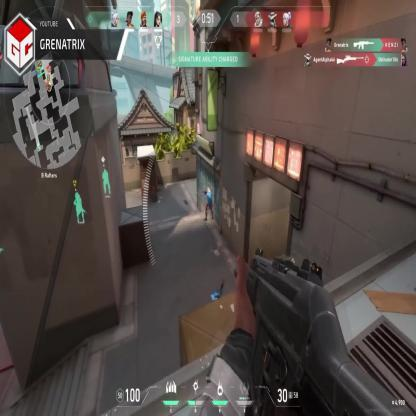enemy: (204, 185, 213, 222)
enemy_head: (207, 187, 210, 193)
